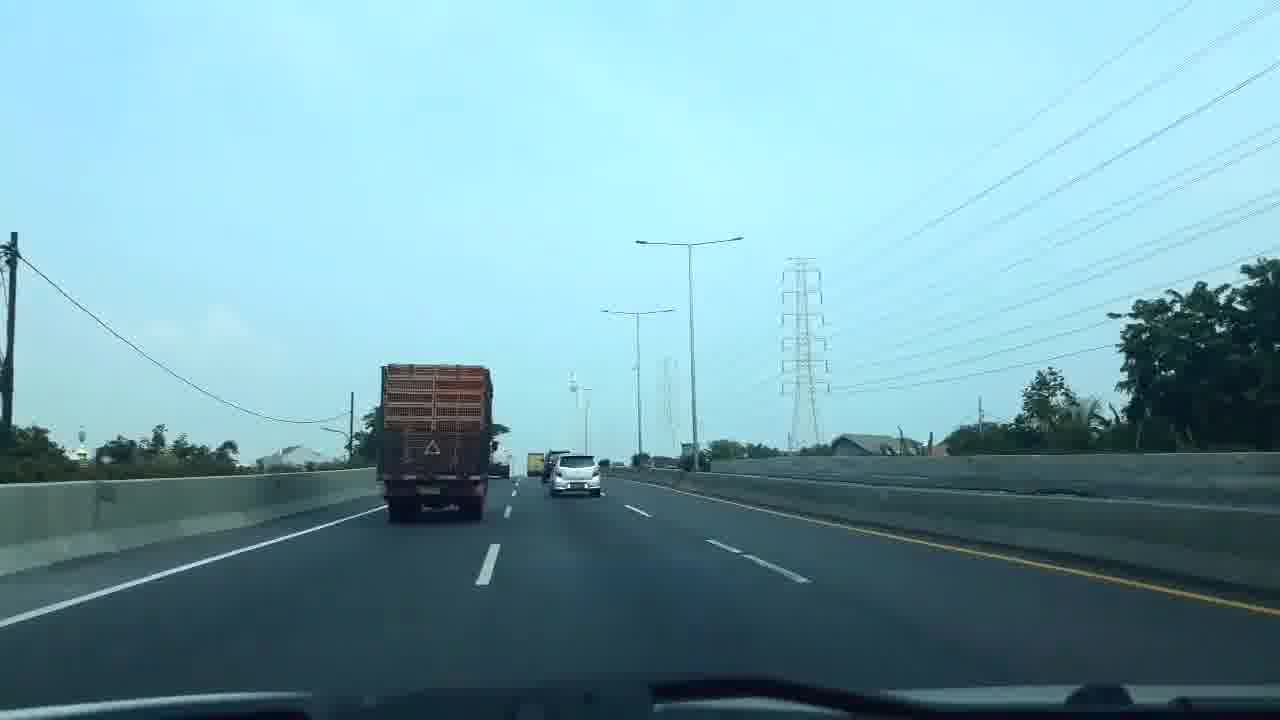plate_positive: (415, 487, 440, 495), (570, 483, 585, 489)
